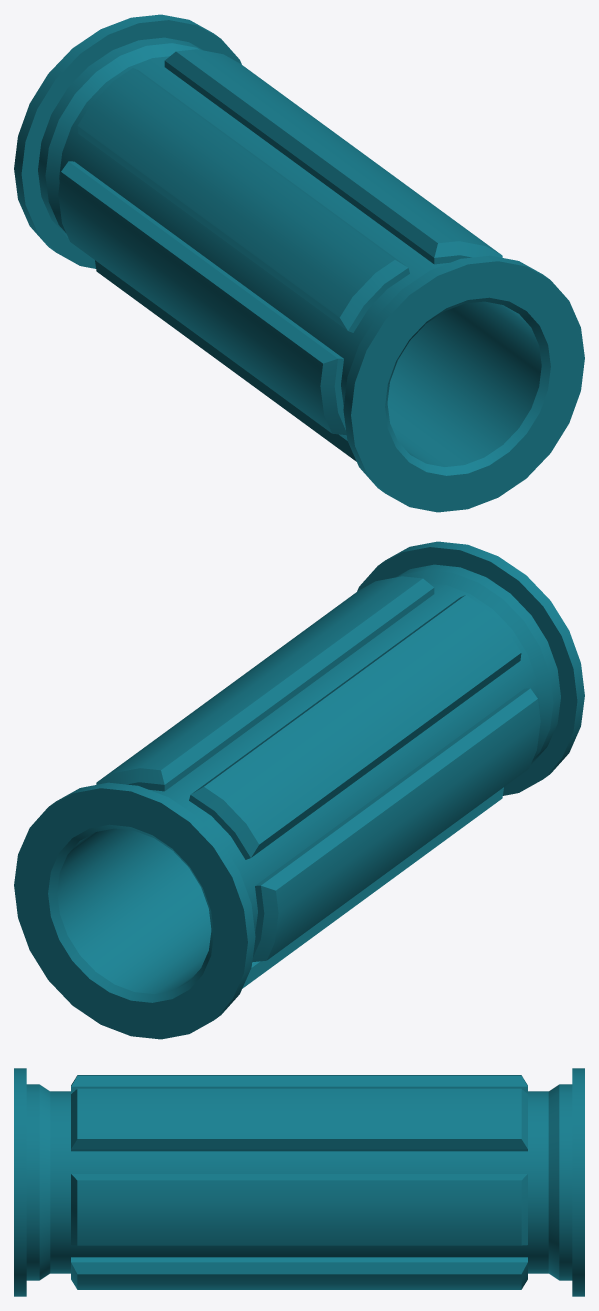
The model's file is Mesh_Plattform_Pipe_01.FBX.
3 views of the same model, one above another, from view 1: azimuth 30°, elevation 25°; view 2: azimuth 150°, elevation 25°; view 3: azimuth 270°, elevation 25° (orthographic). The views are drawn at different scales.
Parts seen in each view (by area): view 1: Mesh_Plattform_Pipe_01; view 2: Mesh_Plattform_Pipe_01; view 3: Mesh_Plattform_Pipe_01.
Part boxes in pixels (bbox=[...]): Mesh_Plattform_Pipe_01: bbox=[14, 14, 584, 512]; Mesh_Plattform_Pipe_01: bbox=[14, 541, 584, 1039]; Mesh_Plattform_Pipe_01: bbox=[14, 1068, 584, 1296].
Bounding box in the file's own units: 509 × 509 × 1270.
